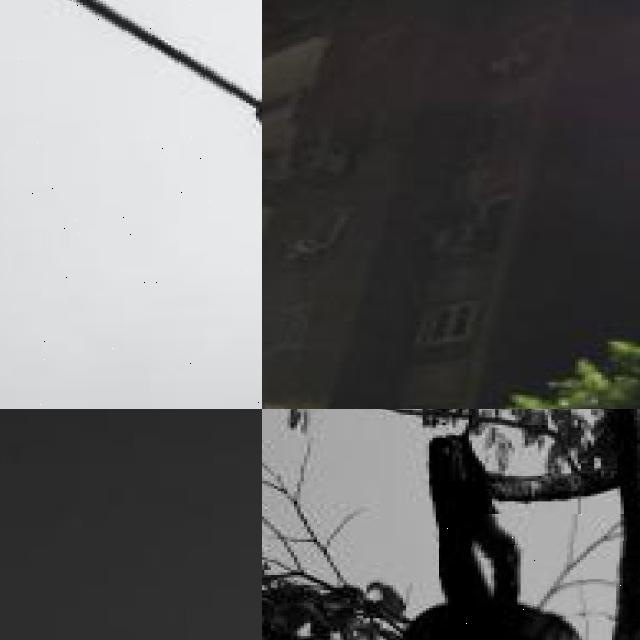street light: (0, 0, 262, 409), (439, 514, 640, 640)
